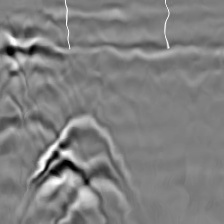Utility: (28, 112, 141, 224), (0, 15, 67, 87)
